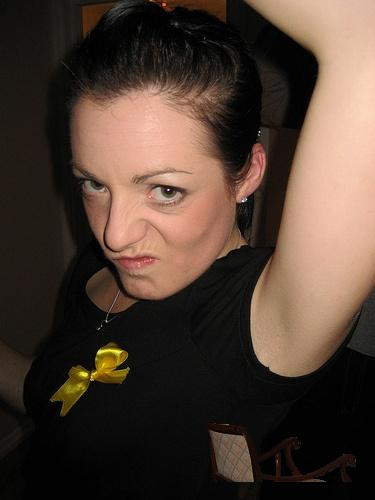tampered: (208, 424, 356, 482)
